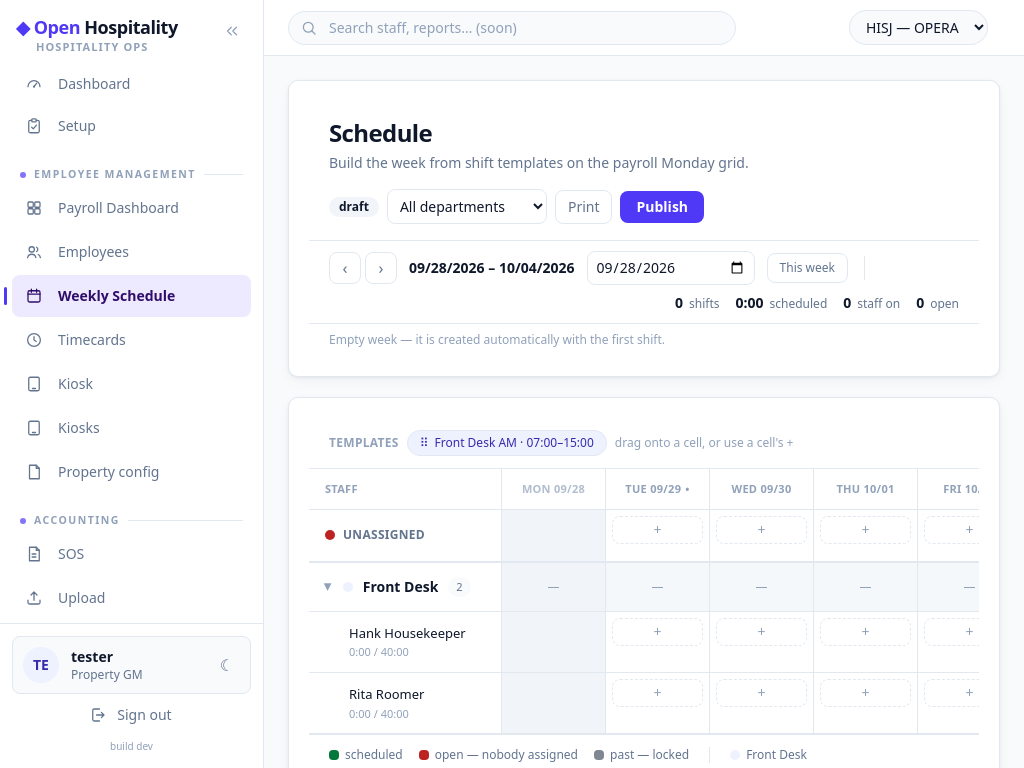
Scenario: SchedulePage › auto-creates the missing week on the first shift add and surfaces its error
Expected: the text "created automatically with the first shift" is shown, [329,331,665,348]
Click the button named "Add shift for": (658, 530) [612,516,703,544]
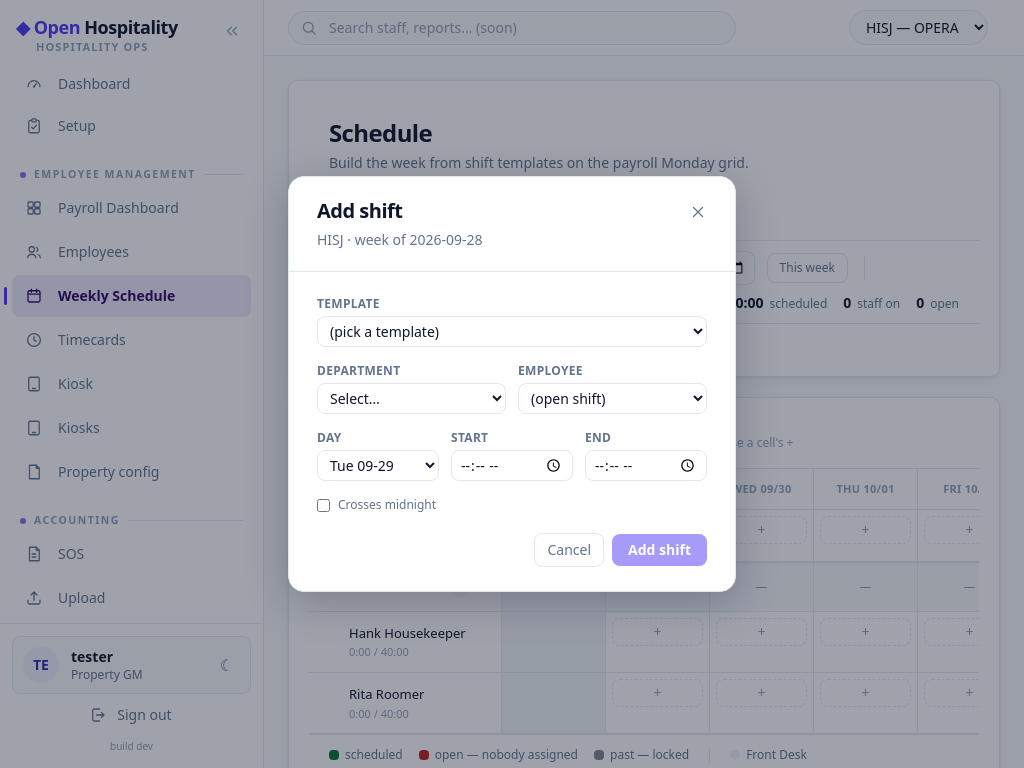
Select "Front Desk AM · 07:00–15:00" in the dropdown named "Shift template": (512, 332) [317,316,707,347]
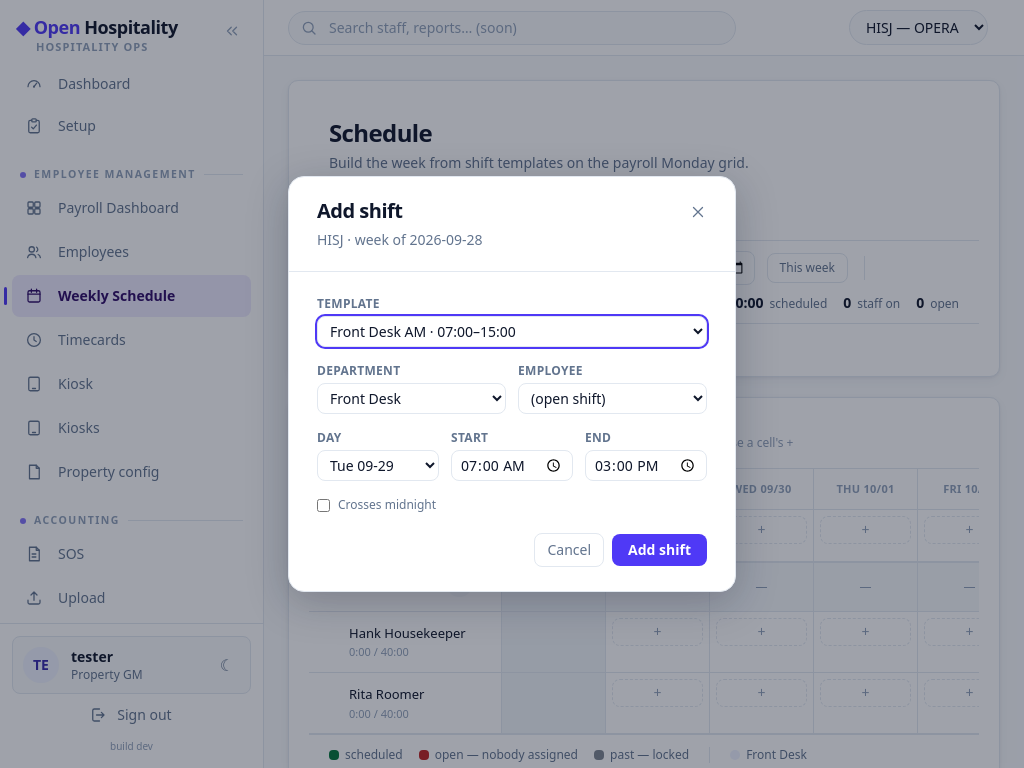
Click the button "Add shift": (660, 550) [612,534,707,566]
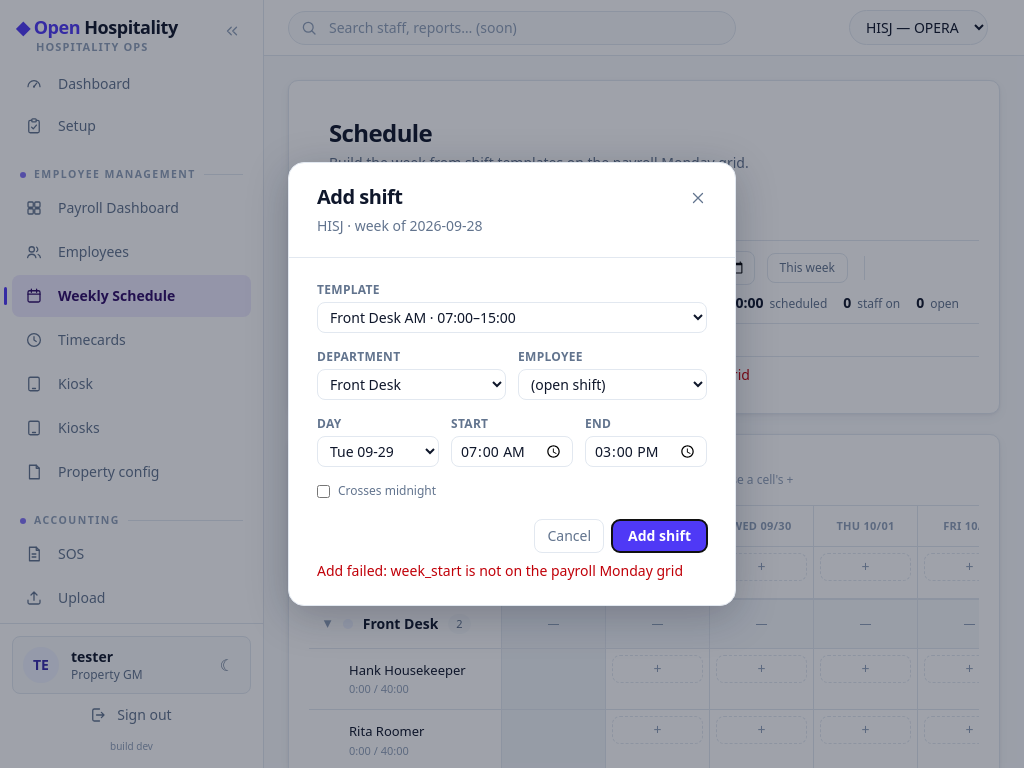
Expected: the message shows "week_start is not on the payroll Monday grid", [391,561,683,580]
